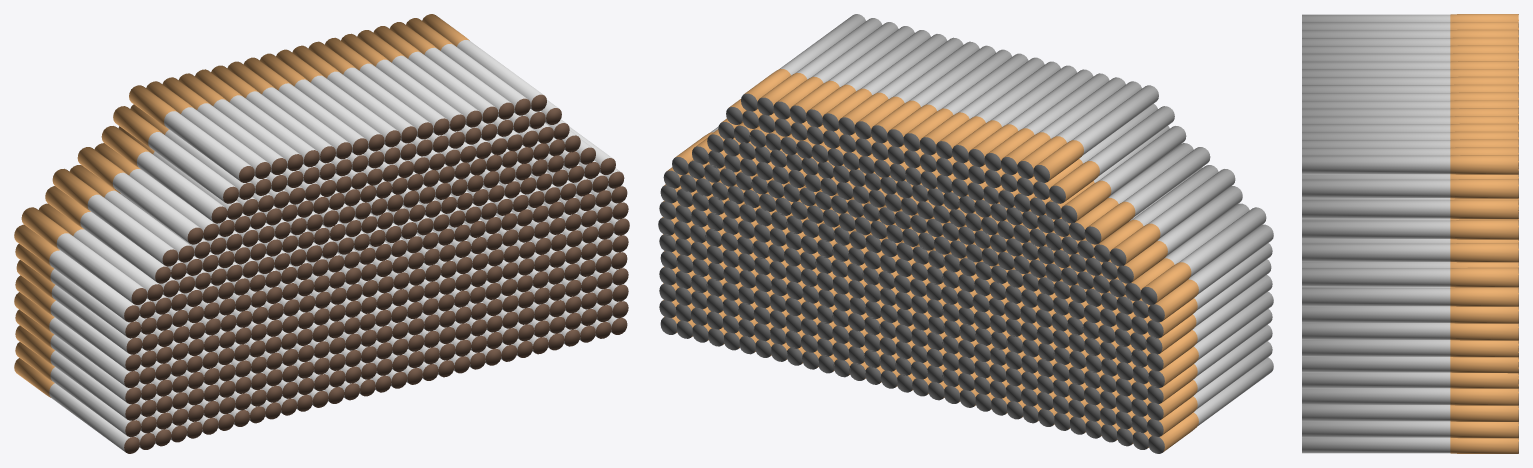
Rendered from 500cigs.glb.
The picture shows the model from 3 angles, left to right: view 1: azimuth 30°, elevation 25°; view 2: azimuth 150°, elevation 25°; view 3: azimuth 270°, elevation 25°; orthographic projection.
Parts seen in each view (by area): view 1: 500Cigs_Accurate463_noBase; view 2: 500Cigs_Accurate463_noBase; view 3: 500Cigs_Accurate463_noBase.
Boxes of the visible parts, x1,y1,x2,y2 form: 500Cigs_Accurate463_noBase: [14, 14, 629, 453]; 500Cigs_Accurate463_noBase: [658, 14, 1273, 453]; 500Cigs_Accurate463_noBase: [1302, 14, 1518, 453].
Bounding box in the file's own units: 3.67 × 1.81 × 1.37.
